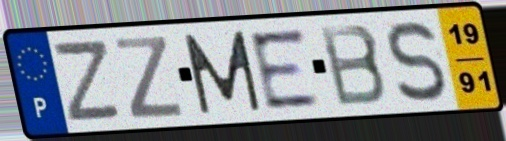B: (315, 21, 390, 109)
E: (244, 25, 324, 113)
M: (179, 28, 265, 118)
S: (385, 18, 450, 105)
Z: (112, 34, 186, 122), (52, 36, 125, 125)
